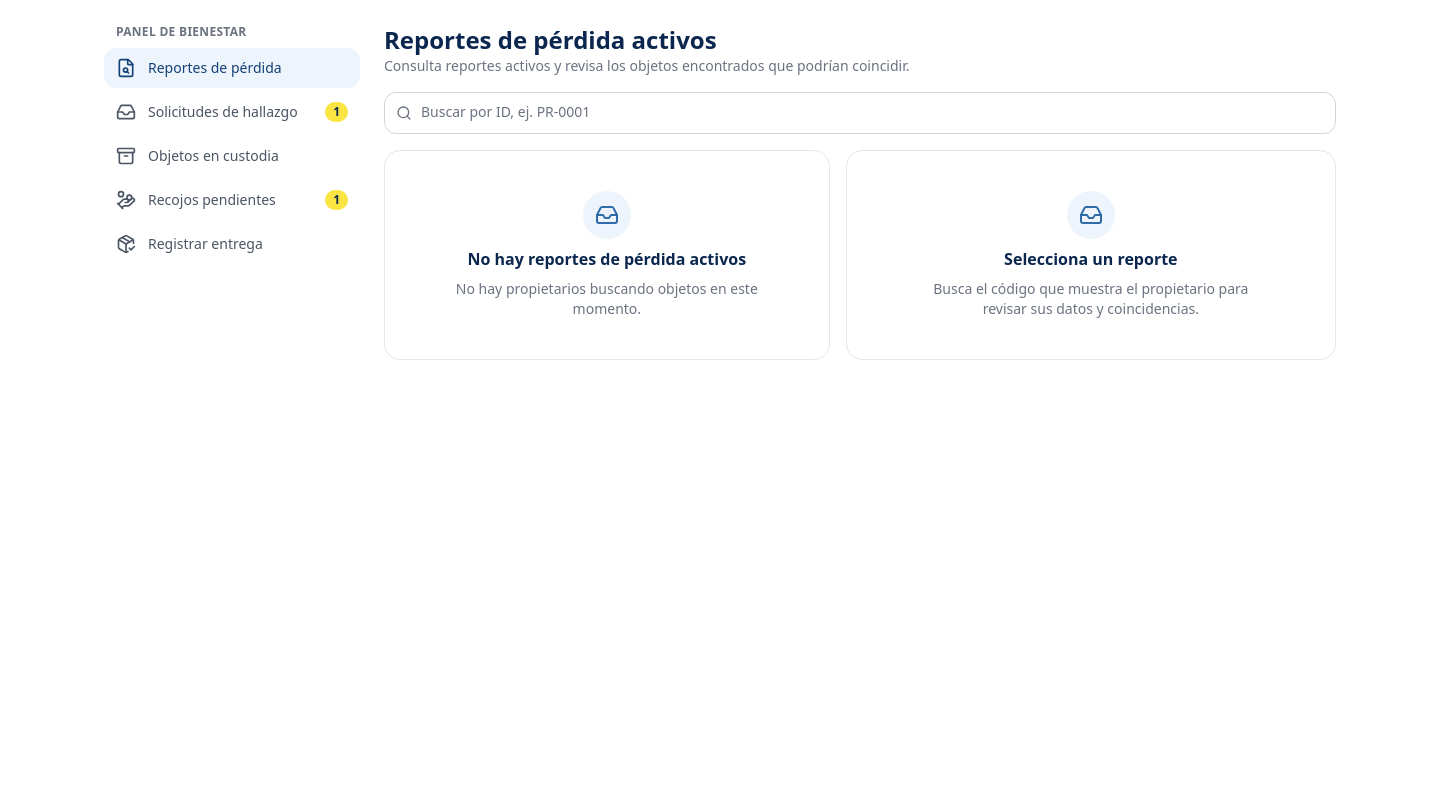
Test: Panel de Bienestar › mantiene el formulario y explica si el reporte no corresponde
The width and height of the screenshot is (1440, 810).
Step 1. Click the button "Recojos pendientes 1" → coordinates (232, 200), box [104,180,360,220]
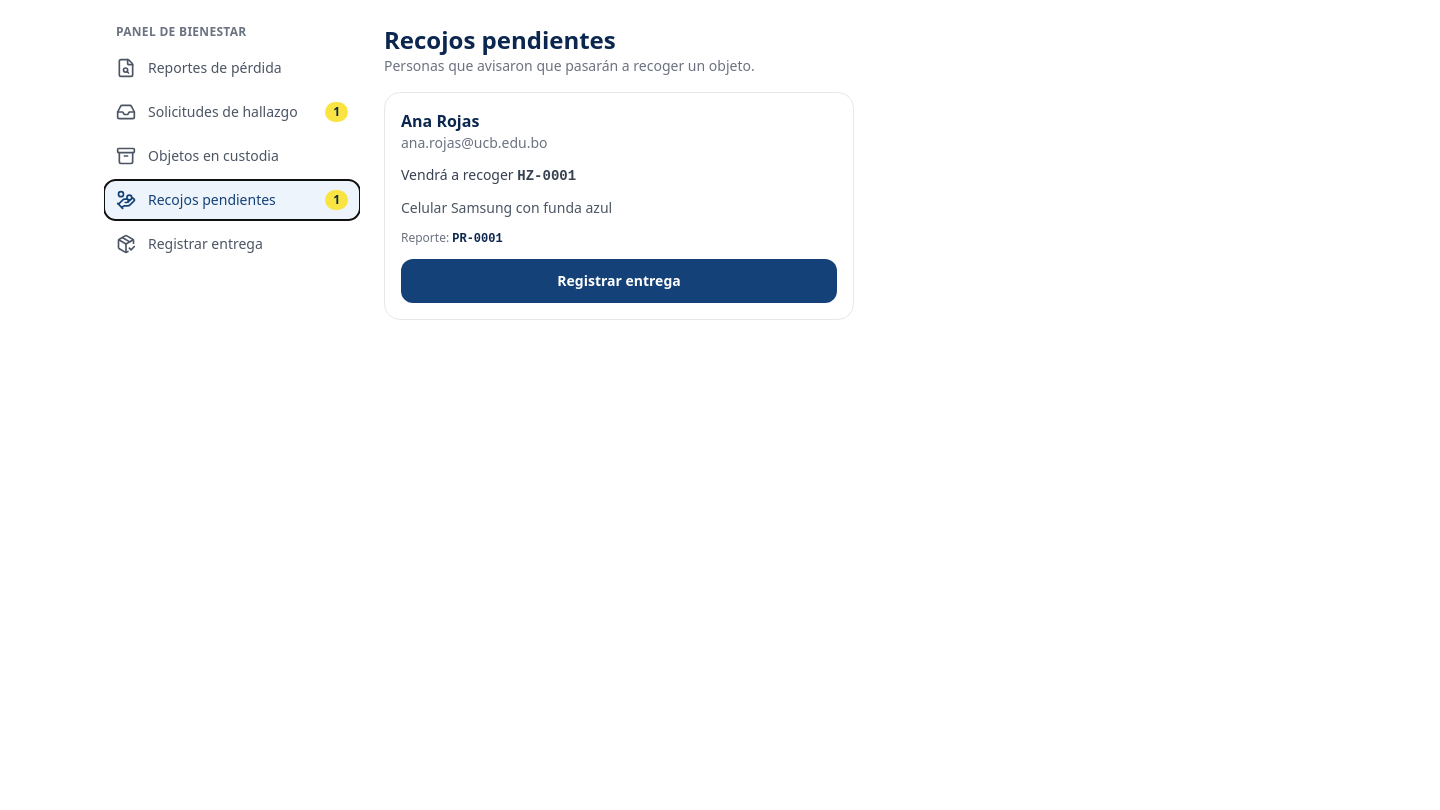
Step 2. Click the button "Registrar entrega" below "Reporte:" → coordinates (619, 281), box [401,259,837,303]
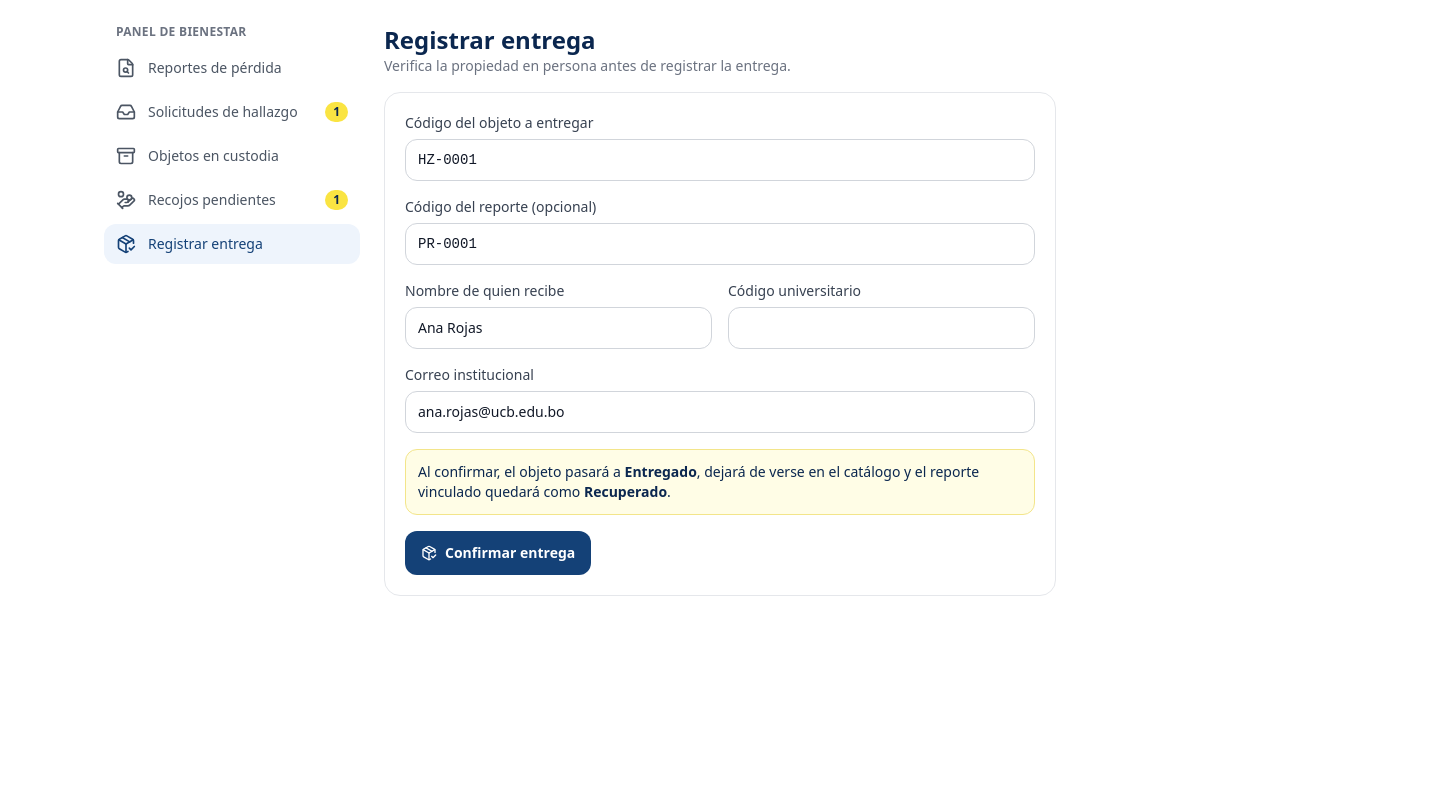
Step 3. Type "20205678" into the field labelled "Código universitario" → coordinates (882, 328), box [728,307,1035,349]
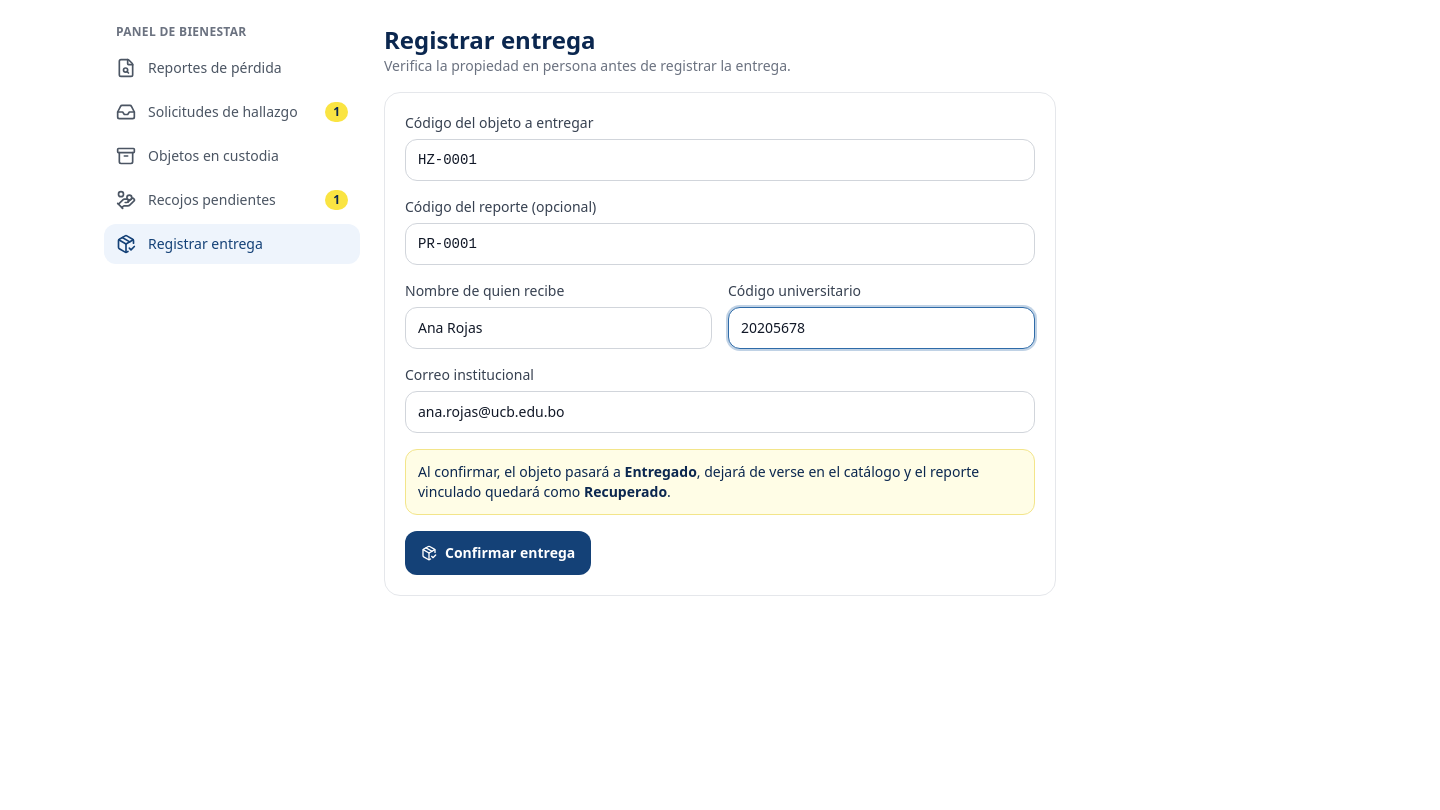
Step 4. Click the button "Confirmar entrega" → coordinates (498, 553), box [405,531,591,575]
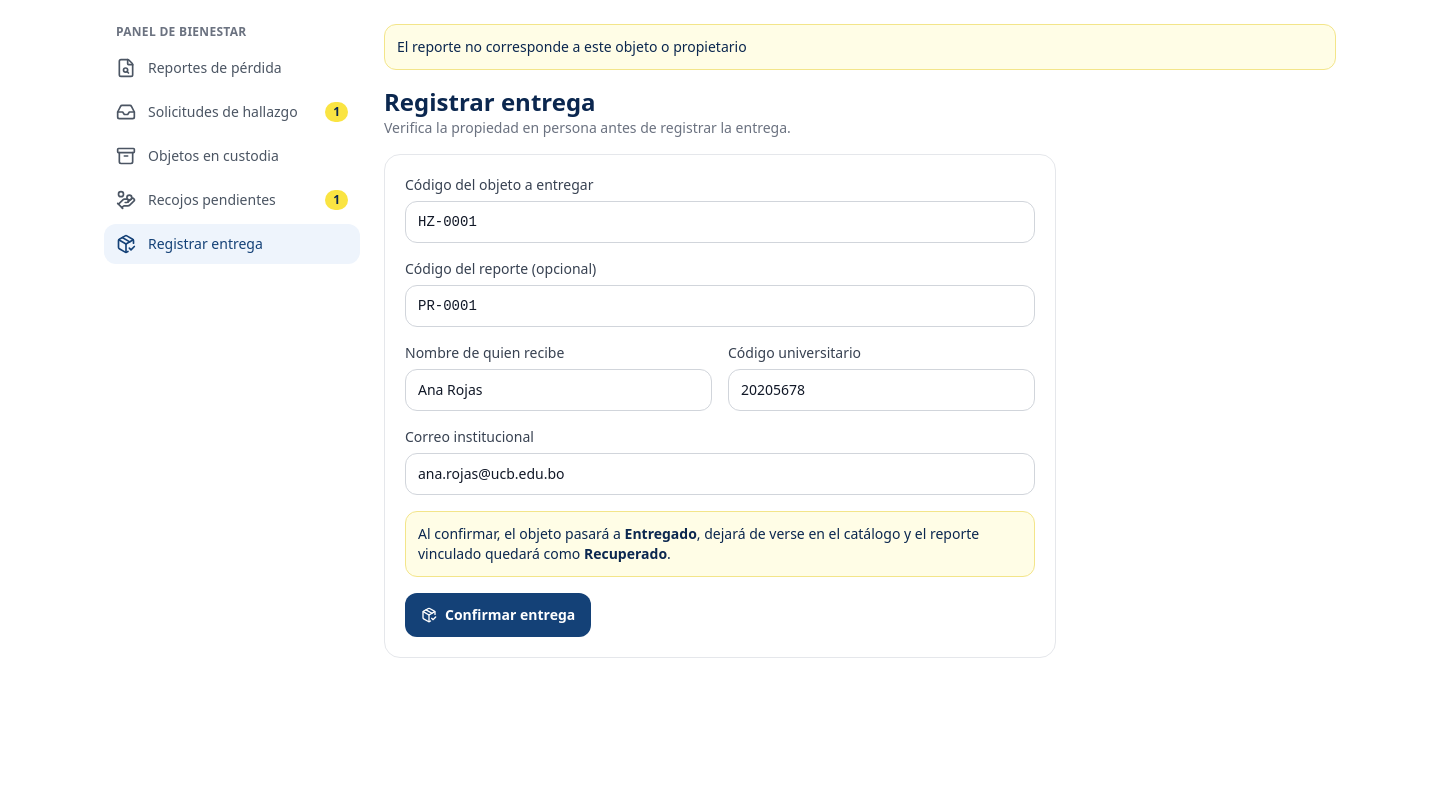
Expected: the text "El reporte no corresponde a este objeto o propietario" is shown, [384,24,1336,70]
